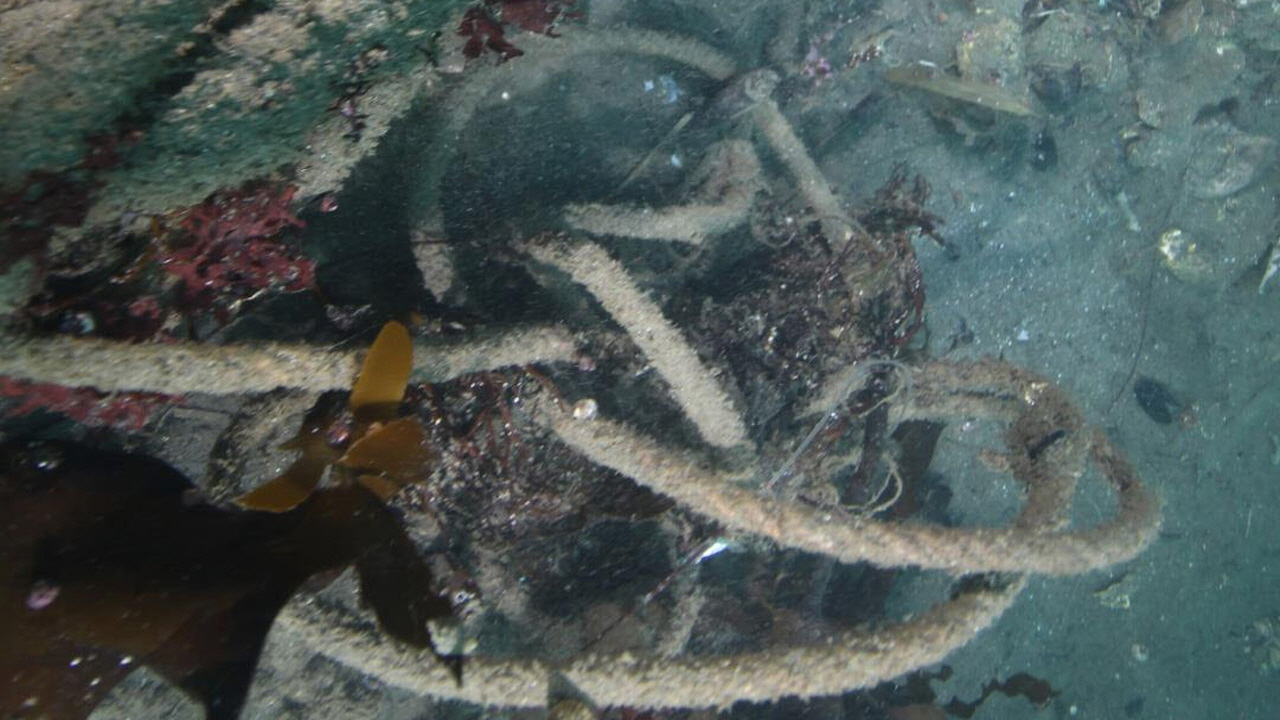bundle of ropes: (0, 22, 1165, 720)
